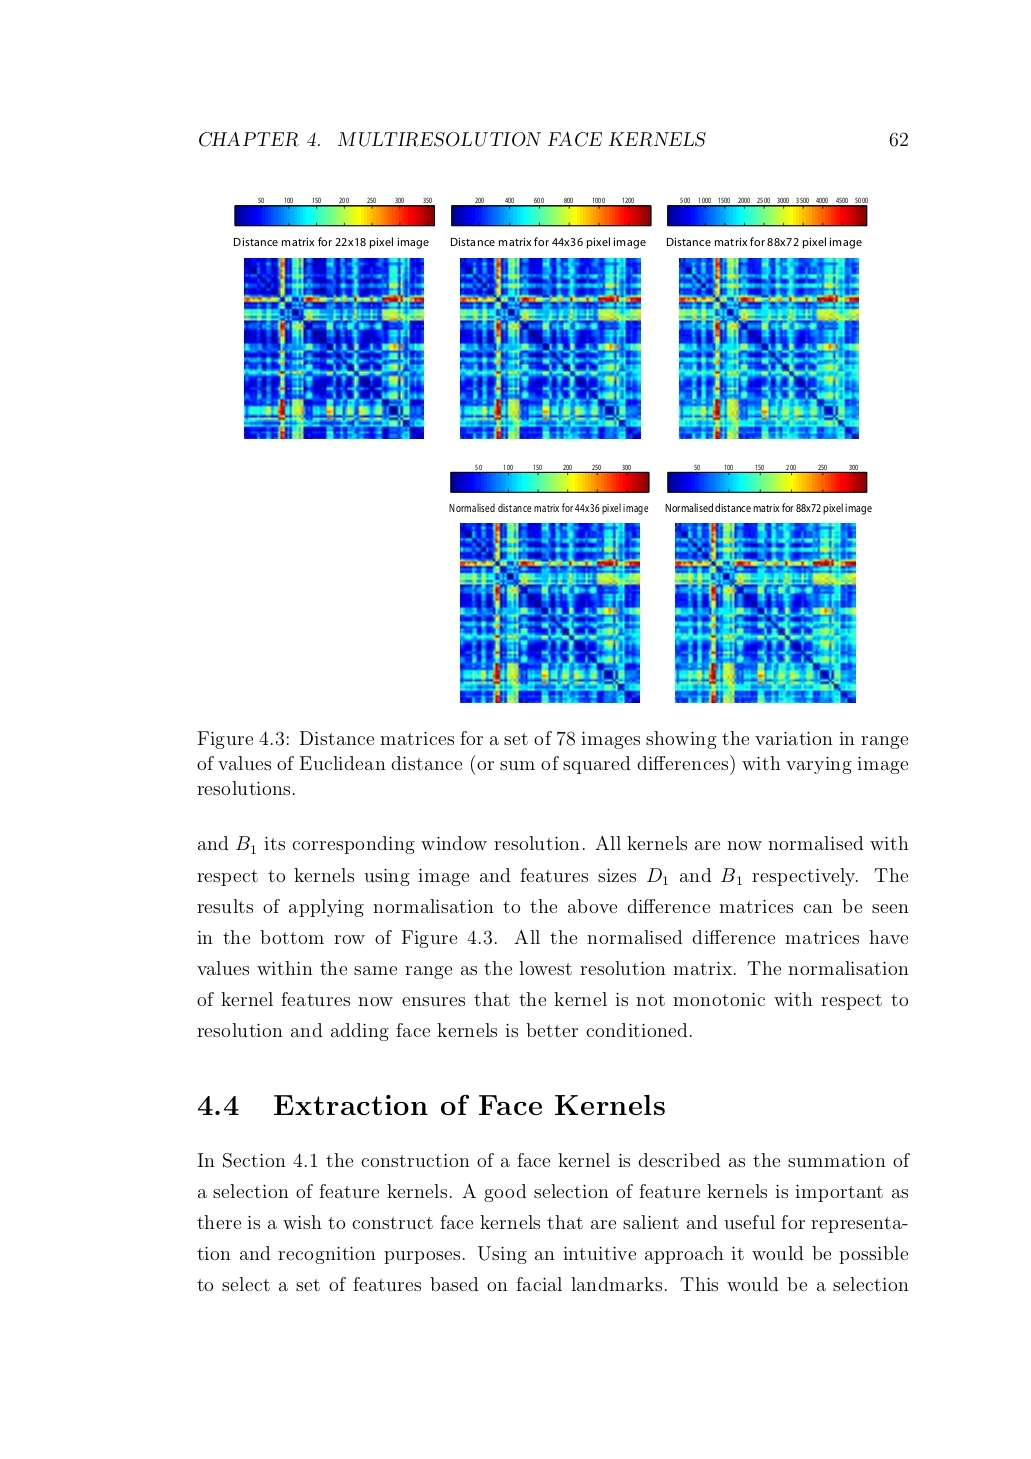figure: (677, 258, 860, 439), (459, 258, 642, 439), (673, 522, 856, 703), (243, 258, 424, 439), (459, 522, 640, 703), (450, 463, 649, 493), (667, 463, 867, 493), (451, 197, 651, 226), (667, 197, 867, 226), (234, 197, 434, 226)
